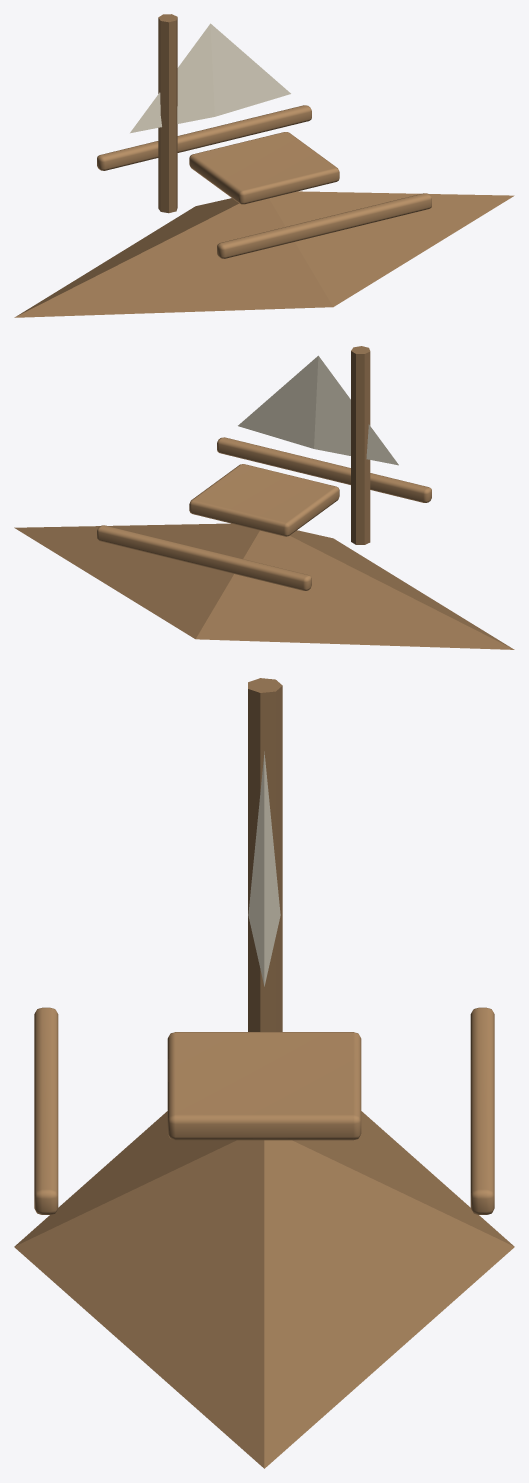
File: boat.glb
3 renders of one model, top to bottom at view 1: azimuth 30°, elevation 25°; view 2: azimuth 150°, elevation 25°; view 3: azimuth 270°, elevation 25°, orthographic. The views are drawn at different scales.
Parts seen in each view (by area): view 1: boat_root; view 2: boat_root; view 3: boat_root.
Part boxes in pixels (box(x1,y1,x2,y2)): boat_root: box(14, 14, 514, 317); boat_root: box(14, 346, 514, 649); boat_root: box(14, 678, 514, 1468).
Bounding box in the file's own units: 5 × 2.5 × 2.38.
